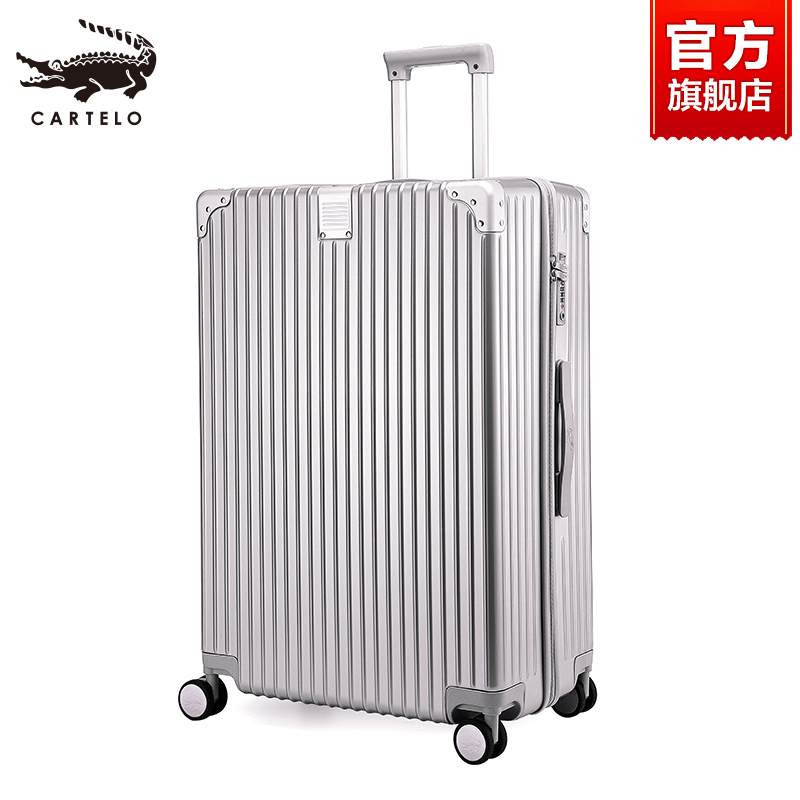box: (195, 179, 595, 724)
handle: (554, 360, 574, 519)
lock: (551, 252, 568, 327)
wheel: (453, 715, 509, 765), (177, 674, 228, 722), (551, 673, 598, 720)
